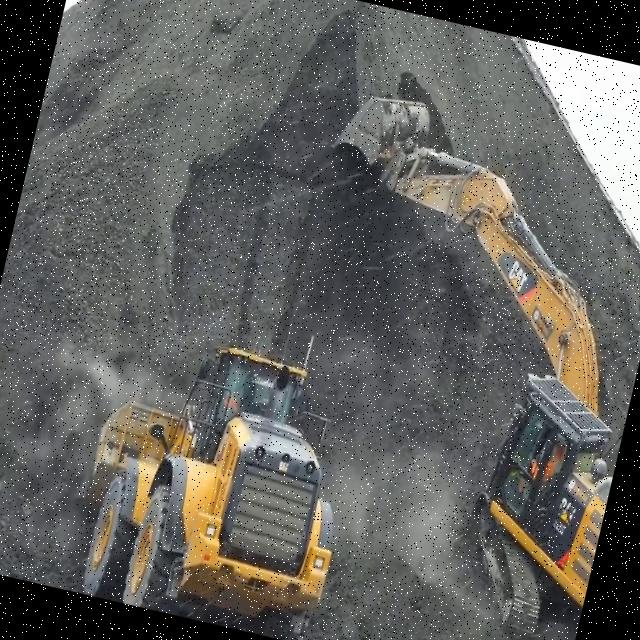Excavator: (229, 82, 640, 640)
Loader: (60, 292, 380, 640)
